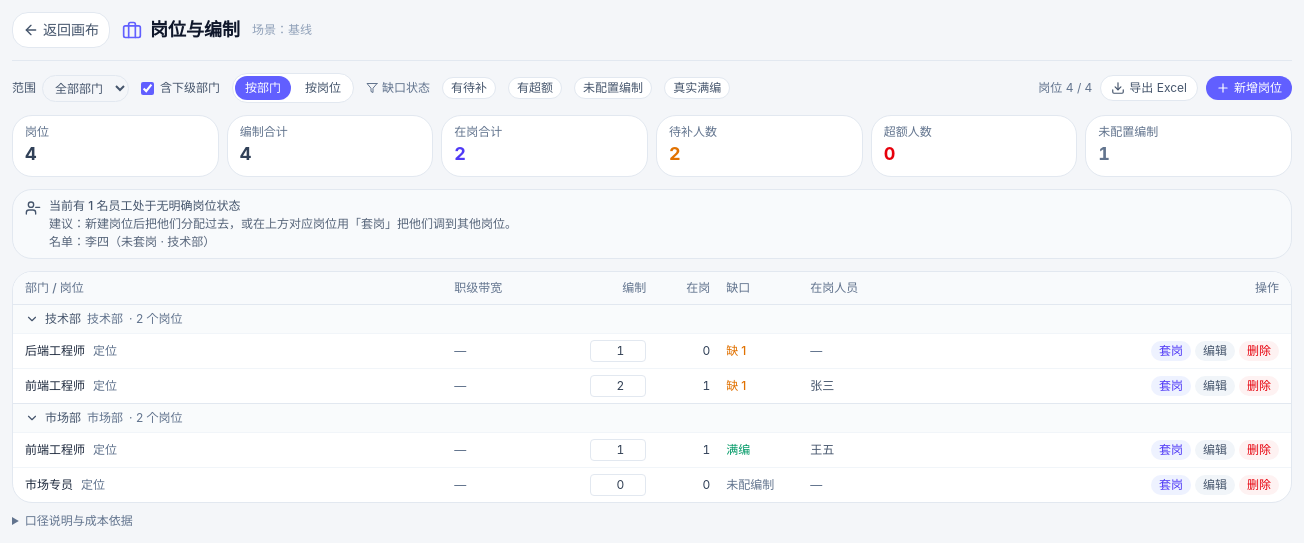
Test: V2.4.0 一个岗位名对应多个部门（双视图） › 按岗位视图：展开后能看到各部门明细行（各自的编制与在岗）
The width and height of the screenshot is (1304, 543).
Click the button "按岗位": (323, 88) x1=295 y1=76 x2=351 y2=100
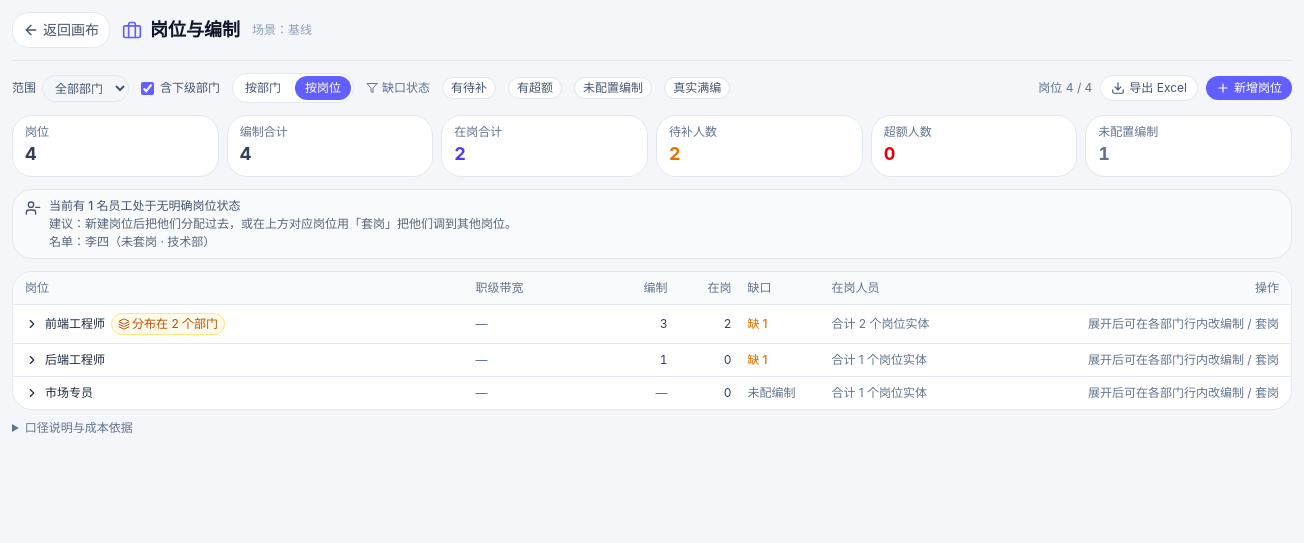
Click the button "前端工程师 分布在 2 个部门": (125, 324) x1=25 y1=313 x2=225 y2=335
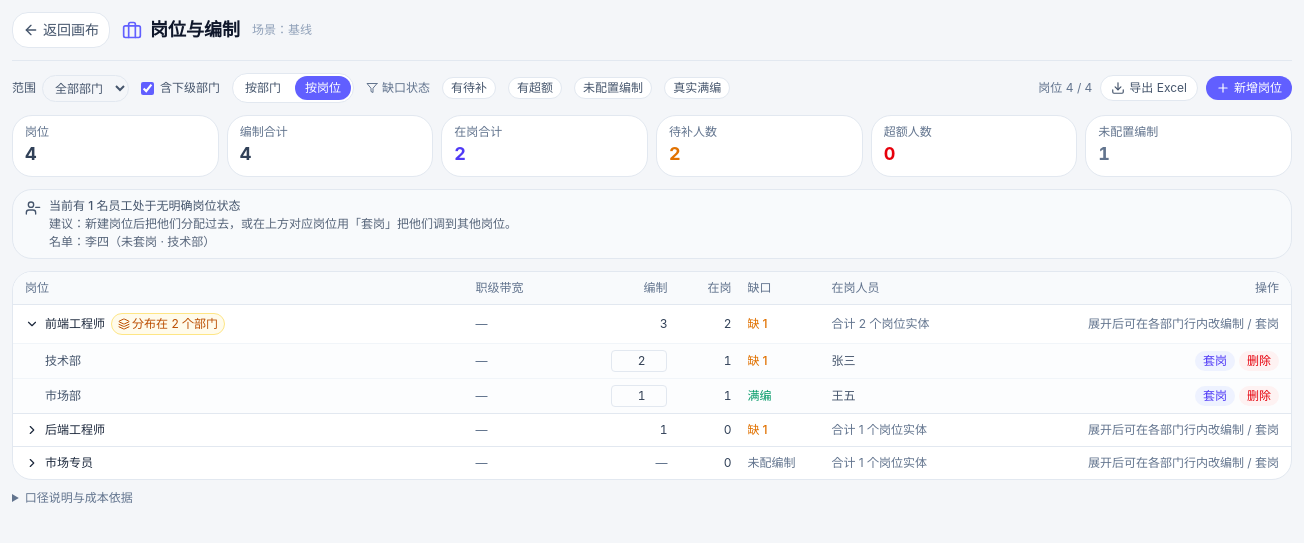
Expected: the element that starts with "返回画布" shows "技术部", x1=45 y1=353 x2=81 y2=368
Result: the element that starts with "返回画布" shows "市场部" at x1=45 y1=388 x2=81 y2=403
